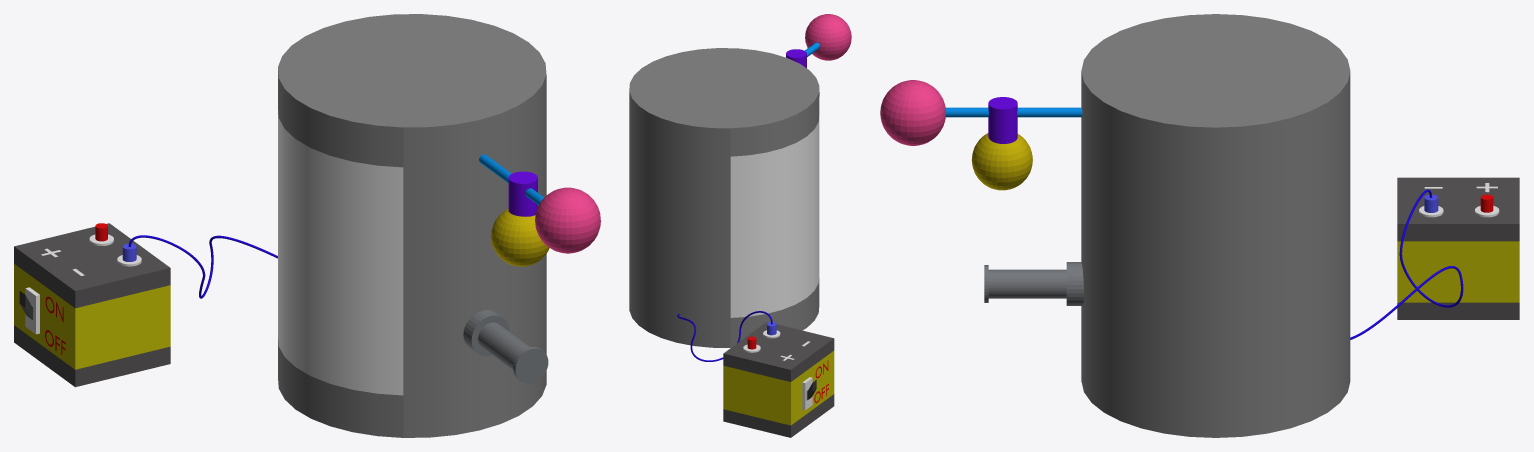
The model's file is LABW.fbx.
3 views of the same model, side by side, from view 1: azimuth 30°, elevation 25°; view 2: azimuth 150°, elevation 25°; view 3: azimuth 270°, elevation 25° (orthographic). The views are drawn at different scales.
Parts seen in each view (by area): view 1: Cylinder, Cylinder.009, Cylinder.008, Cube, Cube.001, Sphere, Cylinder.007, Sphere.001, Cylinder.004, BézierCurve, Cylinder.003; view 2: Cylinder, Cylinder.009, Cube, Cube.001, Cylinder.008, Sphere, BézierCurve, Cylinder.004, Cube.002; view 3: Cylinder, Cube, Cube.001, Sphere, Cylinder.007, Sphere.001, Cylinder.004, Cylinder.003, BézierCurve.
Boxes of the visible parts, x1=… form: Cylinder: x1=278, y1=14, x2=546, y2=437; Cylinder.009: x1=278, y1=110, x2=403, y2=395; Cylinder.008: x1=278, y1=70, x2=403, y2=437; Cube: x1=14, y1=223, x2=170, y2=387; Cube.001: x1=14, y1=264, x2=170, y2=369; Sphere: x1=535, y1=187, x2=600, y2=253; Cylinder.007: x1=463, y1=309, x2=548, y2=383; Sphere.001: x1=491, y1=208, x2=549, y2=266; Cylinder.004: x1=508, y1=171, x2=537, y2=216; BézierCurve: x1=128, y1=235, x2=277, y2=298; Cylinder.003: x1=479, y1=154, x2=544, y2=205; Cylinder: x1=629, y1=48, x2=819, y2=347; Cylinder.009: x1=730, y1=116, x2=819, y2=317; Cube: x1=723, y1=322, x2=834, y2=437; Cube.001: x1=723, y1=351, x2=834, y2=425; Cylinder.008: x1=730, y1=88, x2=819, y2=347; Sphere: x1=805, y1=14, x2=851, y2=60; BézierCurve: x1=677, y1=311, x2=772, y2=361; Cylinder.004: x1=786, y1=49, x2=806, y2=68; Cube.002: x1=802, y1=377, x2=812, y2=410; Cylinder: x1=1081, y1=14, x2=1350, y2=437; Cube: x1=1397, y1=177, x2=1519, y2=319; Cube.001: x1=1397, y1=241, x2=1519, y2=302; Sphere: x1=880, y1=80, x2=945, y2=145; Cylinder.007: x1=984, y1=262, x2=1083, y2=305; Sphere.001: x1=971, y1=133, x2=1032, y2=190; Cylinder.004: x1=988, y1=97, x2=1017, y2=143; Cylinder.003: x1=945, y1=107, x2=1082, y2=117; BézierCurve: x1=1350, y1=189, x2=1463, y2=339.
Size of the model in its own units: 354 by 291 by 523.
